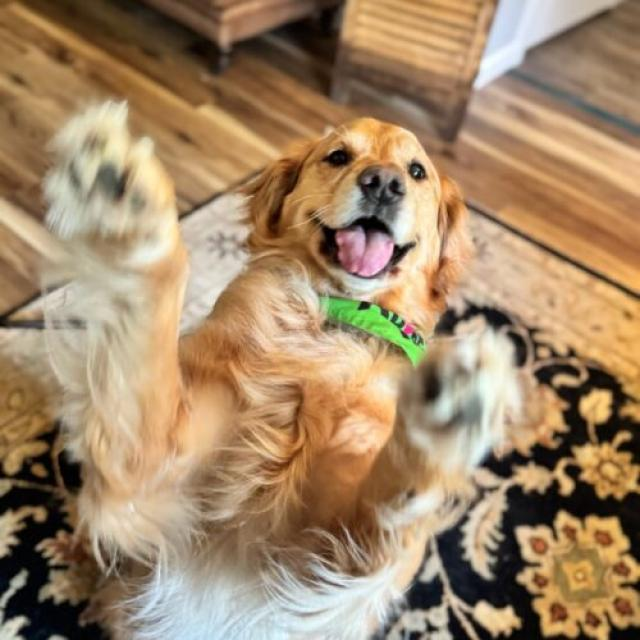golden_retriever_dog: (227, 104, 485, 340)
